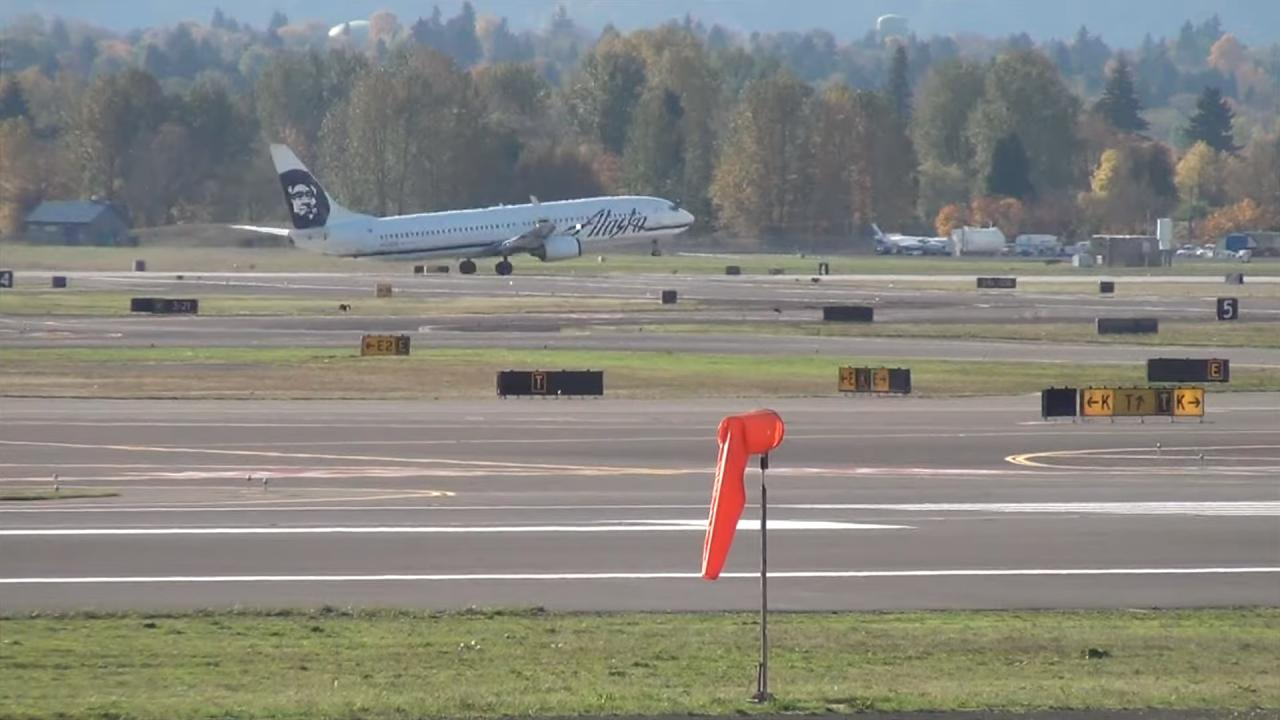Airplane: (223, 136, 708, 285)
